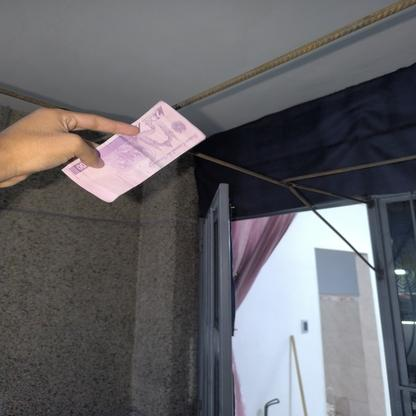one_hundred-back-vef: (61, 99, 206, 203)
